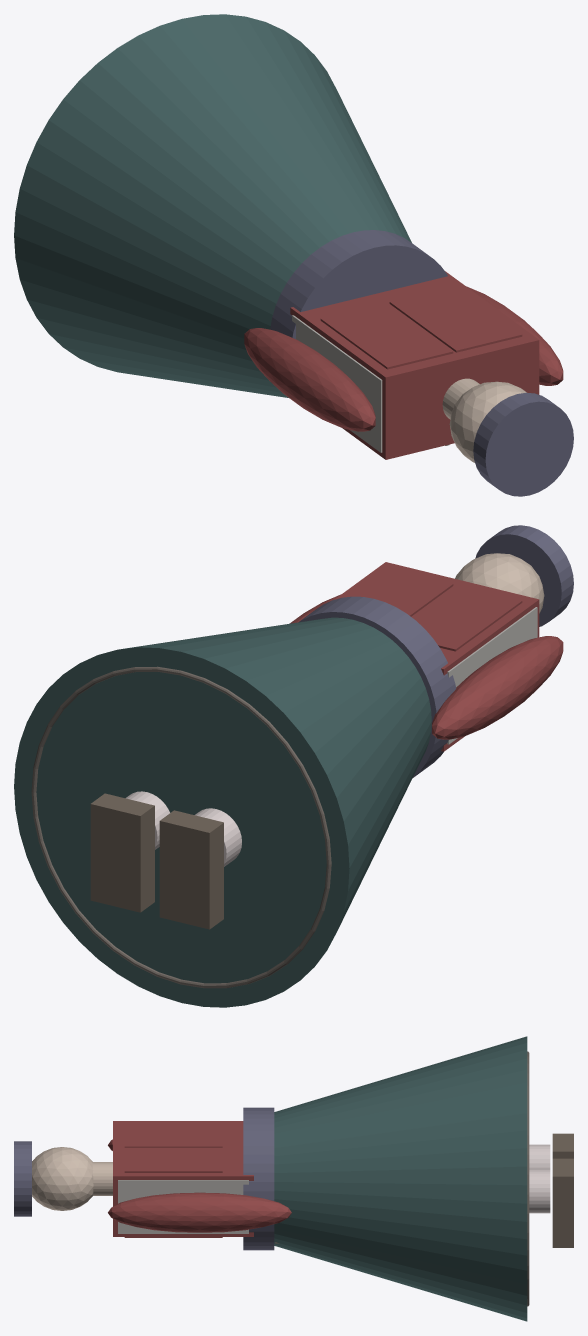
Rendered from MASTER_087_STAGE3_DETAIL.glb.
The picture shows the model from 3 angles, top to bottom: view 1: azimuth 30°, elevation 25°; view 2: azimuth 150°, elevation 25°; view 3: azimuth 270°, elevation 25°; orthographic projection. The views are drawn at different scales.
Visible parts, largest first — view 1: slot_lower_main__fund_i_gjatë, slot_upper_inner__këmishë, slot_waist__brez, slot_headwear__mbulesë_koke, slot_upper_inner_sleeve_L, slot_upper_outer__jelek_L, slot_upper_outer__jelek_R, mannequin_torso, mannequin_head, slot_upper_inner_sleeve_R, mannequin_neck; view 2: slot_lower_main__fund_i_gjatë, slot_footwear__opinga_R, slot_footwear__opinga_L, slot_upper_inner_sleeve_L, slot_waist__brez, detail_skirt_hem, slot_headwear__mbulesë_koke, slot_upper_outer__jelek_L, slot_upper_inner__këmishë, mannequin_head, slot_upper_outer__jelek_R, mannequin_torso (+2 smaller); view 3: slot_lower_main__fund_i_gjatë, slot_upper_inner_sleeve_R, slot_upper_inner__këmishë, slot_waist__brez, mannequin_head, slot_upper_outer__jelek_R, slot_upper_outer__jelek_L, mannequin_torso, slot_footwear__opinga_R, slot_headwear__mbulesë_koke, slot_legwear__çorape_R, detail_skirt_hem (+3 smaller).
Boxes of the visible parts, x1=… form: slot_lower_main__fund_i_gjatë: x1=14, y1=14, x2=411, y2=397; slot_upper_inner__këmishë: x1=290, y1=271, x2=539, y2=459; slot_waist__brez: x1=270, y1=230, x2=447, y2=338; slot_headwear__mbulesë_koke: x1=473, y1=392, x2=573, y2=496; slot_upper_inner_sleeve_L: x1=244, y1=328, x2=375, y2=431; slot_upper_outer__jelek_L: x1=320, y1=303, x2=453, y2=369; slot_upper_outer__jelek_R: x1=389, y1=286, x2=522, y2=352; mannequin_torso: x1=292, y1=315, x2=382, y2=452; mannequin_head: x1=449, y1=381, x2=526, y2=462; slot_upper_inner_sleeve_R: x1=466, y1=286, x2=563, y2=385; mannequin_neck: x1=442, y1=378, x2=479, y2=419; slot_lower_main__fund_i_gjatë: x1=14, y1=617, x2=431, y2=1007; slot_footwear__opinga_R: x1=90, y1=793, x2=154, y2=912; slot_footwear__opinga_L: x1=159, y1=810, x2=223, y2=929; slot_upper_inner_sleeve_L: x1=432, y1=636, x2=563, y2=739; slot_waist__brez: x1=299, y1=596, x2=456, y2=777; detail_skirt_hem: x1=31, y1=666, x2=331, y2=988; slot_headwear__mbulesë_koke: x1=475, y1=525, x2=573, y2=626; slot_upper_outer__jelek_L: x1=412, y1=585, x2=522, y2=651; slot_upper_inner__këmishë: x1=334, y1=562, x2=539, y2=751; mannequin_head: x1=455, y1=553, x2=544, y2=613; slot_upper_outer__jelek_R: x1=348, y1=568, x2=453, y2=616; mannequin_torso: x1=447, y1=607, x2=537, y2=744; slot_lower_main__fund_i_gjatë: x1=274, y1=1036, x2=527, y2=1321; slot_upper_inner_sleeve_R: x1=108, y1=1192, x2=291, y2=1232; slot_upper_inner__këmishë: x1=113, y1=1121, x2=253, y2=1236; slot_waist__brez: x1=243, y1=1107, x2=274, y2=1250; mannequin_head: x1=32, y1=1147, x2=93, y2=1210; slot_upper_outer__jelek_R: x1=124, y1=1147, x2=222, y2=1237; slot_upper_outer__jelek_L: x1=124, y1=1122, x2=222, y2=1147; mannequin_torso: x1=118, y1=1180, x2=248, y2=1233; slot_footwear__opinga_R: x1=552, y1=1158, x2=573, y2=1247; slot_headwear__mbulesë_koke: x1=14, y1=1141, x2=31, y2=1216; slot_legwear__çorape_R: x1=529, y1=1169, x2=550, y2=1213; detail_skirt_hem: x1=527, y1=1051, x2=529, y2=1306.
Bounding box in the file's own units: 0.8725 × 0.8725 × 1.71.
